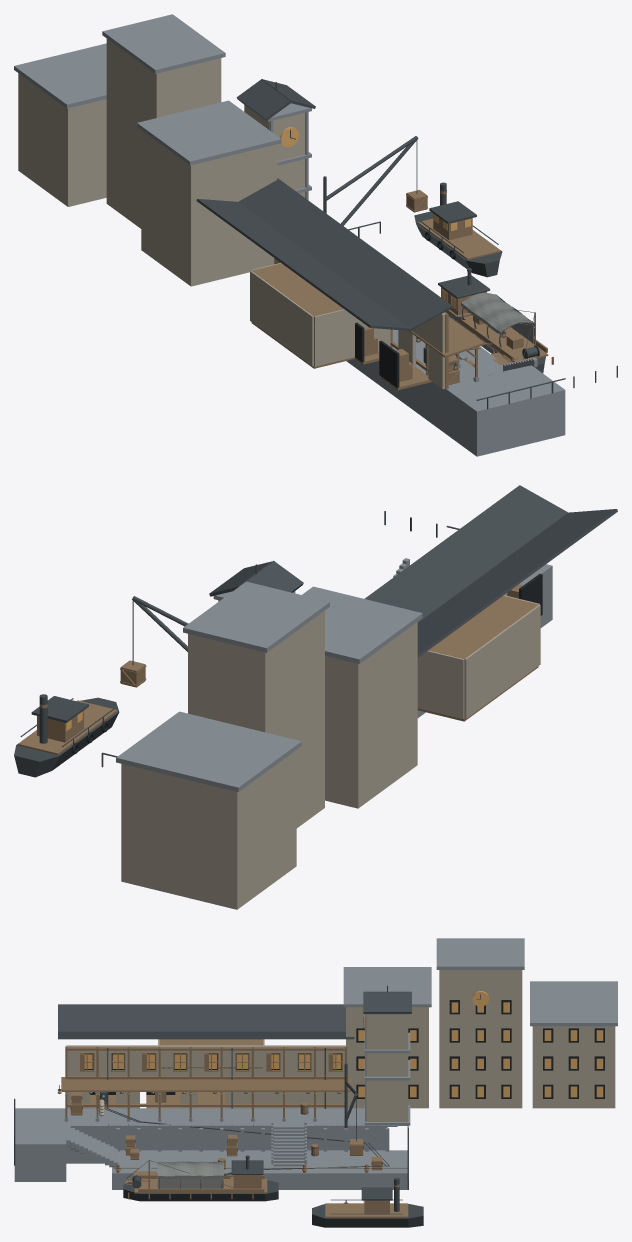
File: harbor.glb
3 views of the same model, one above another, from view 1: azimuth 30°, elevation 25°; view 2: azimuth 150°, elevation 25°; view 3: azimuth 270°, elevation 25° (orthographic). The views are drawn at different scales.
Parts seen in each view (by area): view 1: HarborDecor_-2_3, HarborDecor_-1_4, HarborDecor_-2_4, HarborDecor_-1_1, HarborSolid_-1_1, HarborSolid_-1_0, HarborDecor_-2_1, HarborDecor_-1_3, HarborBoat_0_0, HarborSolid_0_-1, HarborSolid_-2_1, HarborBoat_1_2 (+4 smaller); view 2: HarborDecor_-2_4, HarborDecor_-1_4, HarborDecor_-2_3, HarborDecor_-1_1, HarborSolid_-1_1, HarborDecor_-2_1, HarborSolid_-2_1, HarborBoat_1_2, HarborBoat_0_0, HarborDecor_-1_3, HarborSolid_-1_0, HarborDecor_0_2 (+1 smaller); view 3: HarborDecor_-1_4, HarborSolid_-1_1, HarborDecor_-1_1, HarborDecor_-2_4, HarborDecor_-2_1, HarborDecor_-1_3, HarborSolid_0_1, HarborDecor_-2_3, HarborBoat_0_0, HarborSolid_-1_2, HarborSolid_-1_0, HarborSolid_0_-1 (+11 smaller).
Part boxes in pixels (x1,y1,x2,y2): HarborDecor_-2_3: (137, 100, 281, 286); HarborDecor_-1_4: (102, 14, 225, 228); HarborDecor_-2_4: (14, 43, 106, 206); HarborDecor_-1_1: (238, 178, 484, 371); HarborSolid_-1_1: (251, 263, 519, 456); HarborSolid_-1_0: (314, 309, 477, 390); HarborDecor_-2_1: (196, 199, 412, 330); HarborDecor_-1_3: (236, 79, 315, 197); HarborBoat_0_0: (414, 211, 545, 373); HarborSolid_0_-1: (489, 367, 565, 445); HarborSolid_-2_1: (250, 271, 313, 366); HarborBoat_1_2: (417, 201, 500, 259); HarborDecor_-2_4: (116, 711, 301, 909); HarborDecor_-1_4: (183, 581, 329, 828); HarborDecor_-2_3: (302, 586, 422, 808); HarborDecor_-1_1: (364, 485, 567, 622); HarborSolid_-1_1: (417, 564, 552, 721); HarborDecor_-2_1: (417, 509, 617, 657); HarborSolid_-2_1: (464, 604, 540, 718); HarborBoat_1_2: (18, 696, 117, 755); HarborBoat_0_0: (14, 697, 119, 777); HarborDecor_-1_3: (209, 560, 303, 601); HarborSolid_-1_0: (503, 573, 542, 617); HarborDecor_0_2: (132, 596, 188, 651); HarborDecor_-1_4: (436, 938, 578, 1108); HarborSolid_-1_1: (15, 1039, 387, 1163); HarborDecor_-1_1: (58, 1031, 354, 1121); HarborDecor_-2_4: (530, 981, 617, 1108); HarborDecor_-2_1: (58, 1004, 345, 1031); HarborDecor_-1_3: (363, 985, 480, 1144); HarborSolid_0_1: (112, 1134, 407, 1189); HarborDecor_-2_3: (343, 967, 431, 1108); HarborBoat_0_0: (123, 1160, 423, 1227); HarborSolid_-1_2: (225, 1045, 345, 1117); HarborSolid_-1_0: (65, 1039, 197, 1117); HarborSolid_0_-1: (14, 1126, 66, 1181).
Bounding box in the file's own units: 28.95 × 19.62 × 58.31.
